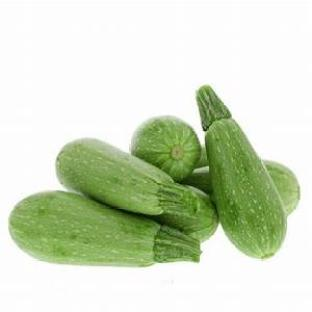Zucchini: (197, 86, 285, 258), (10, 192, 199, 266), (57, 139, 199, 217), (131, 116, 200, 180), (154, 187, 218, 242), (264, 161, 299, 215), (196, 145, 208, 168)
